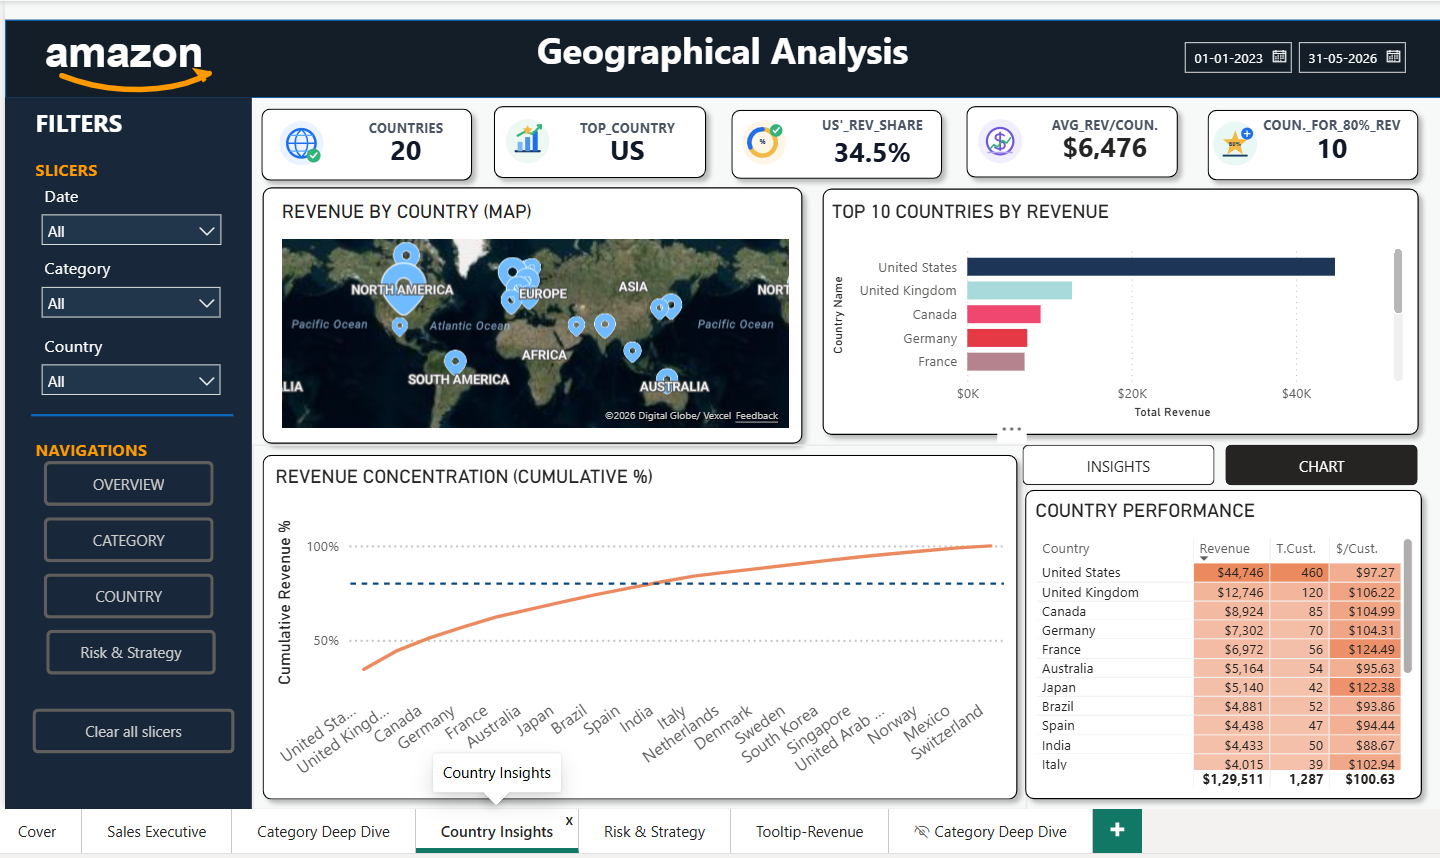

This screenshot's page, from the dashboard's own definition file:
{"tool":"powerbi","page":{"name":"Country Insights","canvas":[1280,720],"ordinal":3},"visuals":[{"type":"shape","box":[0,16.7,1280.3,69.9],"z":0},{"type":"shape","box":[427,84.9,207,82],"z":0,"group":"g5"},{"type":"shape","box":[847.6,85.3,206.3,81.6],"z":0,"group":"g4"},{"type":"group","id":"g1","title":"Group 1","box":[219.8,87.5,205.7,82],"z":0,"group":"g6"},{"type":"shape","box":[219.8,87.5,205.7,82],"z":0,"group":"g1"},{"type":"shape","box":[638,87.9,205.7,79.4],"z":0,"group":"g3"},{"type":"shape","box":[1062.5,87.9,205.7,80.7],"z":0,"group":"g2"},{"type":"shape","box":[220,157.5,498.8,246.2],"z":0,"group":"g7"},{"type":"shape","title":"sh","box":[220,395,690.5,325],"z":0,"group":"g9"},{"type":"shape","box":[900,426,371.4,293.5],"z":0,"group":"g8"},{"type":"shape","box":[0,86.3,219.8,634.4],"z":1000},{"type":"group","id":"g2","title":"Group 2","box":[1062.5,87.9,205.7,80.7],"z":1000,"group":"g6"},{"type":"image","box":[443.9,103.2,45,45],"z":1000,"group":"g5"},{"type":"image","box":[654,103.2,45,45],"z":1000,"group":"g3"},{"type":"image","box":[863.9,103.2,45,45],"z":1000,"group":"g4"},{"type":"image","box":[241.7,104,45,45.8],"z":1000,"group":"g1"},{"type":"image","box":[1073.5,105,45,45],"z":1000,"group":"g2"},{"type":"azureMap","title":"REVENUE BY COUNTRY (MAP)","fields":{"Category":["users.Country Name"],"Size":["_Measure.Total Revenue"]},"box":[241.2,177.7,461.8,207.8],"z":1000,"group":"g7"},{"type":"image","title":"im","box":[257.8,428.8,97.2,73.2],"z":1000,"group":"g9"},{"type":"tableEx","title":"COUNTRY PERFORMANCE","fields":{"Values":["users.Country Name","_Measure.Total Revenue","_Measure.Total Customers","_Measure.Revenue per Customer"]},"box":[912.9,440.2,345.6,265.1],"z":1000,"group":"g8"},{"type":"group","id":"g3","title":"Group 2","box":[638,87.9,205.7,79.4],"z":2000,"group":"g6"},{"type":"card","title":"US''_REV_SHARE","fields":{"Values":["_Measure.Top Country Revenue Share"]},"box":[718.5,102.4,109.1,51.9],"z":2000,"group":"g3"},{"type":"card","title":"COUN._FOR_80%_REV","fields":{"Values":["_Measure.Countries for 80pct Revenue"]},"box":[1115.1,102.4,135,45.4],"z":2000,"group":"g2"},{"type":"card","title":"AVG_REV/COUN.","fields":{"Values":["_Measure.Avg Revenue per Country"]},"box":[919.6,103.4,120,43.3],"z":2000,"group":"g4"},{"type":"card","title":"TOP_COUNTRY","fields":{"Values":["_Measure.Top Country by Revenue"]},"box":[494.6,104.8,120.4,43.5],"z":2000,"group":"g5"},{"type":"card","title":"COUNTRIES","fields":{"Values":["_Measure.Total Countries"]},"box":[298.1,105.3,119.7,43.5],"z":2000,"group":"g1"},{"type":"shape","box":[719,157.8,548.9,237.4],"z":2000},{"type":"textbox","title":"3","box":[363.4,592.5,532.8,96.2],"z":2000,"group":"g9"},{"type":"image","box":[0,16.7,270.6,69.9],"z":3000},{"type":"group","id":"g4","title":"Group 2","box":[847.6,85.3,206.3,81.6],"z":3000,"group":"g6"},{"type":"image","title":"im","box":[257.8,514.4,97.2,73.2],"z":3000,"group":"g9"},{"type":"group","id":"g5","title":"Group 2","box":[427,84.9,207,82],"z":4000,"group":"g6"},{"type":"textbox","box":[22.3,89.4,179.9,327],"z":4000},{"type":"textbox","title":"2","box":[366.7,428.8,526.8,75],"z":4000,"group":"g9"},{"type":"textbox","box":[350.9,16.7,577,70],"z":5000},{"type":"image","title":"im","box":[257.8,602.2,97.2,73.2],"z":5000,"group":"g9"},{"type":"slicer","title":"DATE","fields":{"Values":["Calendar.Date"]},"box":[22.3,157.8,180,65],"z":6000},{"type":"textbox","title":"1","box":[366.7,508.3,526.2,83.8],"z":6000,"group":"g9"},{"type":"slicer","fields":{"Values":["Calendar.Date"]},"box":[1027.5,16.7,252.8,69.9],"z":7000},{"type":"slicer","fields":{"Values":["products.category"]},"box":[22.3,223.2,179.9,69.9],"z":8000},{"type":"slicer","fields":{"Values":["users.country"]},"box":[22.3,291.6,179.9,66.9],"z":9000},{"type":"shape","box":[23.8,358.5,179.9,20.8],"z":10000},{"type":"actionButton","box":[24,630,180,40],"z":11000},{"type":"group","id":"g6","title":"Group 5","box":[219.8,84.9,1048.4,84.6],"z":12000},{"type":"group","id":"g7","title":"Group 3","box":[220,157.5,498.8,246.2],"z":14000},{"type":"clusteredBarChart","title":"TOP 10 COUNTRIES BY REVENUE","fields":{"Category":["users.Country Name"],"Y":["_Measure.Total Revenue"]},"box":[731.4,177,518.7,200.3],"z":15000},{"type":"group","id":"g8","title":"Country Performance","box":[900,426,371.4,293.5],"z":17000},{"type":"group","id":"g9","title":"INSIGHTS","box":[220,395,690,324.4],"z":18000},{"type":"bookmarkNavigator","box":[906.5,394.8,352.2,36.7],"z":19000},{"type":"actionButton","title":"OVERVIEW","box":[34.7,410,151.4,40],"z":20000},{"type":"actionButton","title":"Category","box":[34.7,460,151.4,40.3],"z":21000},{"type":"actionButton","title":"Country","box":[34,510,151.4,40.3],"z":22000},{"type":"actionButton","title":"OVERVIEW","box":[36.6,560,151,40],"z":23000}]}

Visuals, with their boxes on the page's 1280x720 design canvas (x1, y1, x2, y2). These are canvas units, not pixel positions in the 1440x858 screenshot, which may show the page scaled, cropped or inside an application window:
shape: detection(0, 17, 1280, 87)
shape: detection(427, 85, 634, 167)
shape: detection(848, 85, 1054, 167)
"Group 1" group: detection(220, 88, 426, 170)
shape: detection(220, 88, 426, 170)
shape: detection(638, 88, 844, 167)
shape: detection(1062, 88, 1268, 169)
shape: detection(220, 158, 719, 404)
"sh" shape: detection(220, 395, 910, 720)
shape: detection(900, 426, 1271, 720)
shape: detection(0, 86, 220, 721)
"Group 2" group: detection(1062, 88, 1268, 169)
image: detection(444, 103, 489, 148)
image: detection(654, 103, 699, 148)
image: detection(864, 103, 909, 148)
image: detection(242, 104, 287, 150)
image: detection(1074, 105, 1118, 150)
"REVENUE BY COUNTRY (MAP)" azureMap: detection(241, 178, 703, 386)
"im" image: detection(258, 429, 355, 502)
"COUNTRY PERFORMANCE" tableEx: detection(913, 440, 1258, 705)
"Group 2" group: detection(638, 88, 844, 167)
"US''_REV_SHARE" card: detection(718, 102, 828, 154)
"COUN._FOR_80%_REV" card: detection(1115, 102, 1250, 148)
"AVG_REV/COUN." card: detection(920, 103, 1040, 147)
"TOP_COUNTRY" card: detection(495, 105, 615, 148)
"COUNTRIES" card: detection(298, 105, 418, 149)
shape: detection(719, 158, 1268, 395)
"3" textbox: detection(363, 592, 896, 689)
image: detection(0, 17, 271, 87)
"Group 2" group: detection(848, 85, 1054, 167)
"im" image: detection(258, 514, 355, 588)
"Group 2" group: detection(427, 85, 634, 167)
textbox: detection(22, 89, 202, 416)
"2" textbox: detection(367, 429, 894, 504)
textbox: detection(351, 17, 928, 87)
"im" image: detection(258, 602, 355, 675)
"DATE" slicer: detection(22, 158, 202, 223)
"1" textbox: detection(367, 508, 893, 592)
slicer - Calendar.Date: detection(1028, 17, 1280, 87)
slicer - products.category: detection(22, 223, 202, 293)
slicer - users.country: detection(22, 292, 202, 358)
shape: detection(24, 358, 204, 379)
actionButton: detection(24, 630, 204, 670)
"Group 5" group: detection(220, 85, 1268, 170)
"Group 3" group: detection(220, 158, 719, 404)
"TOP 10 COUNTRIES BY REVENUE" clusteredBarChart: detection(731, 177, 1250, 377)
"Country Performance" group: detection(900, 426, 1271, 720)
"INSIGHTS" group: detection(220, 395, 910, 719)
bookmarkNavigator: detection(906, 395, 1259, 432)
"OVERVIEW" actionButton: detection(35, 410, 186, 450)
"Category" actionButton: detection(35, 460, 186, 500)
"Country" actionButton: detection(34, 510, 185, 550)
"OVERVIEW" actionButton: detection(37, 560, 188, 600)
